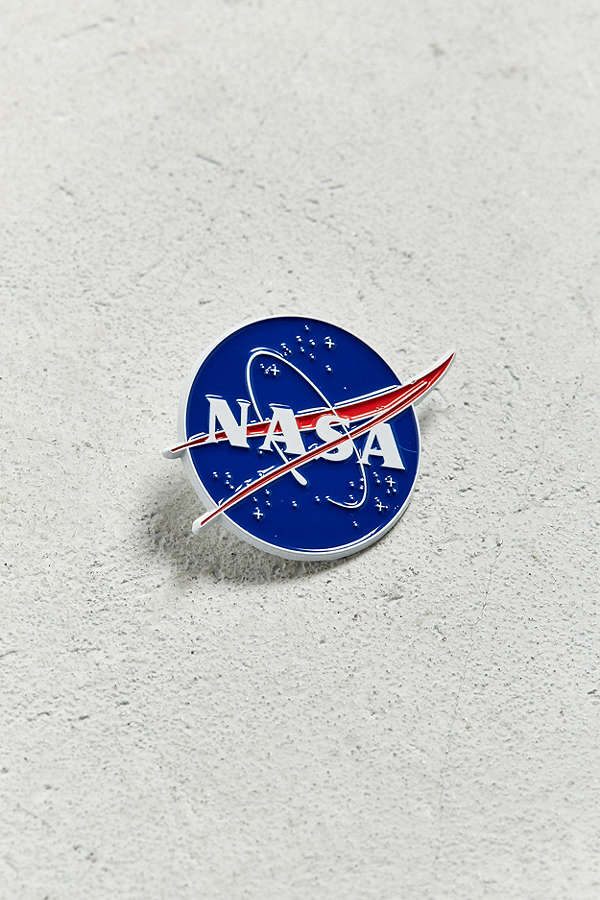NASA: (159, 314, 467, 567)
